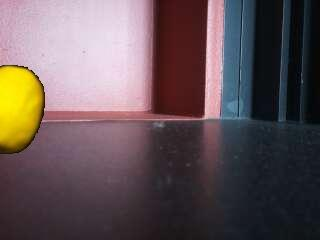Lemon: (0, 58, 48, 156)
